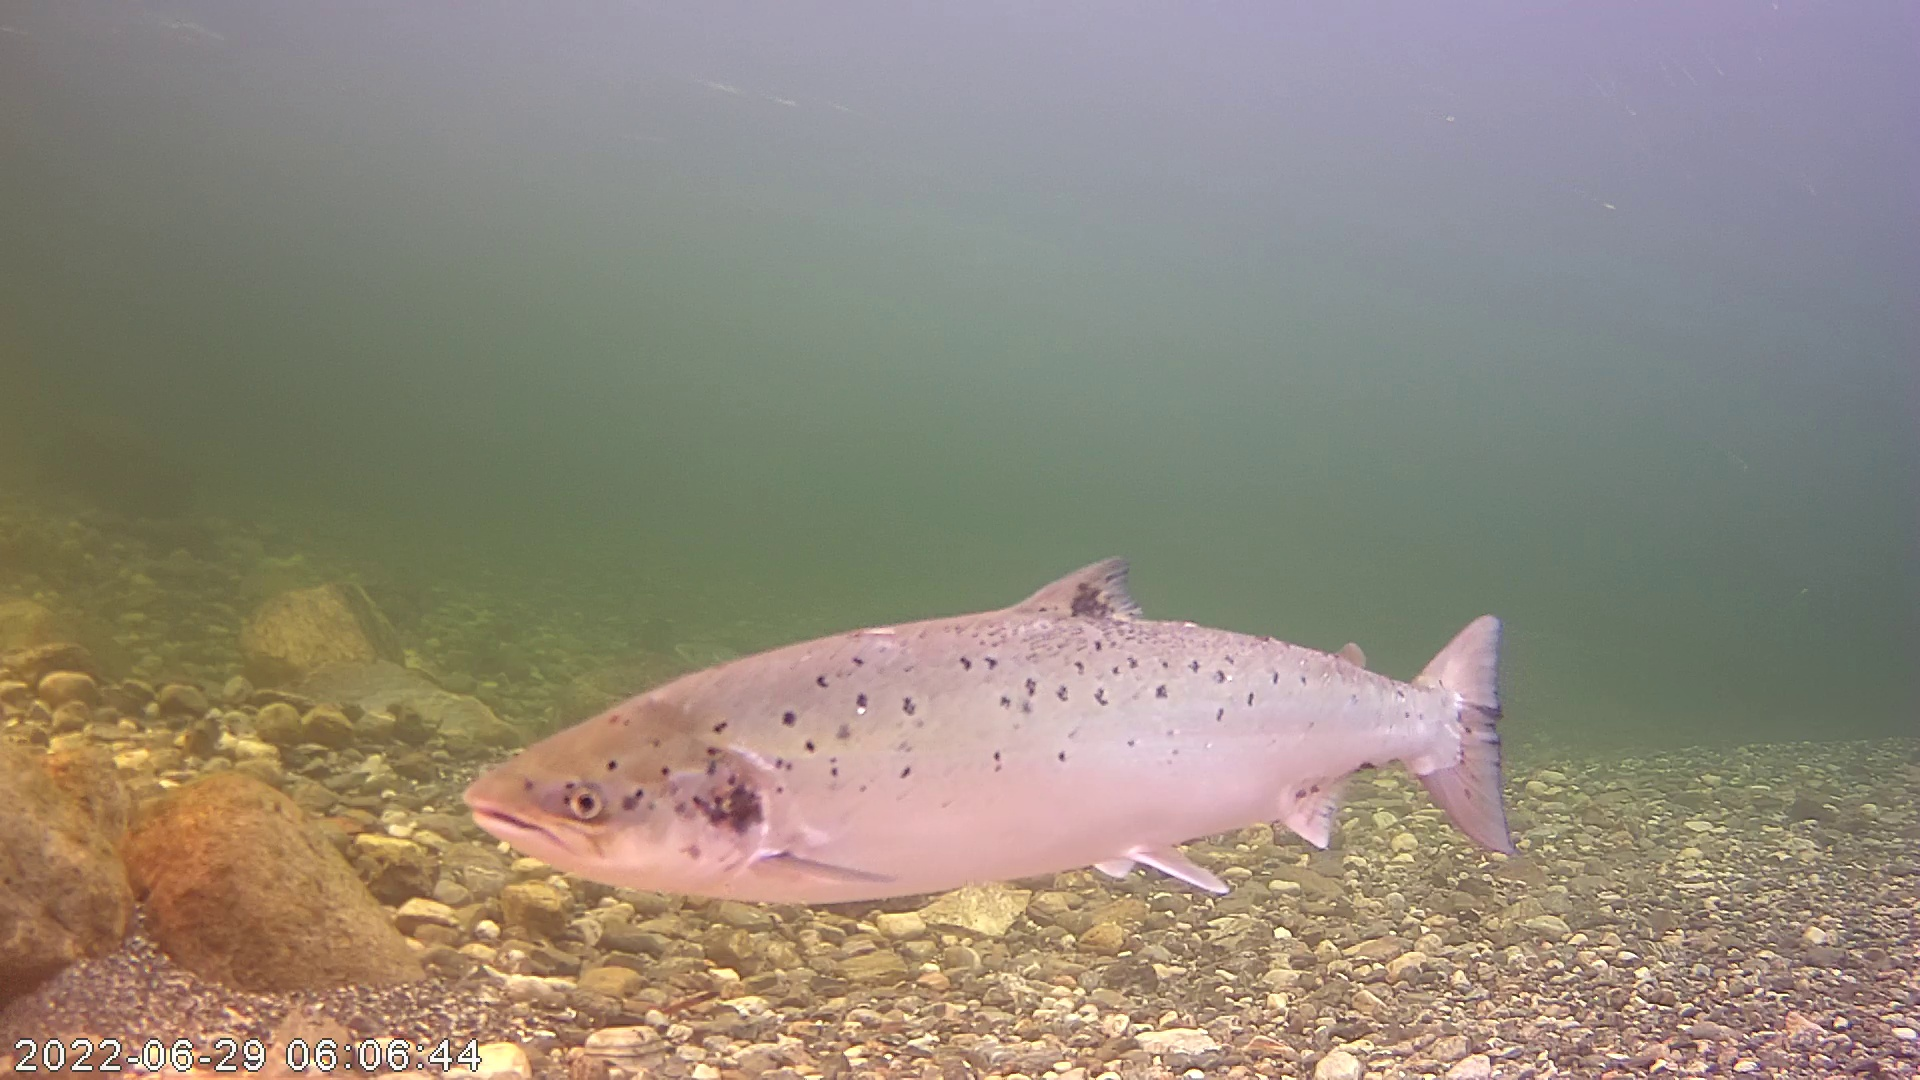salmon: (498, 472, 1511, 911)
